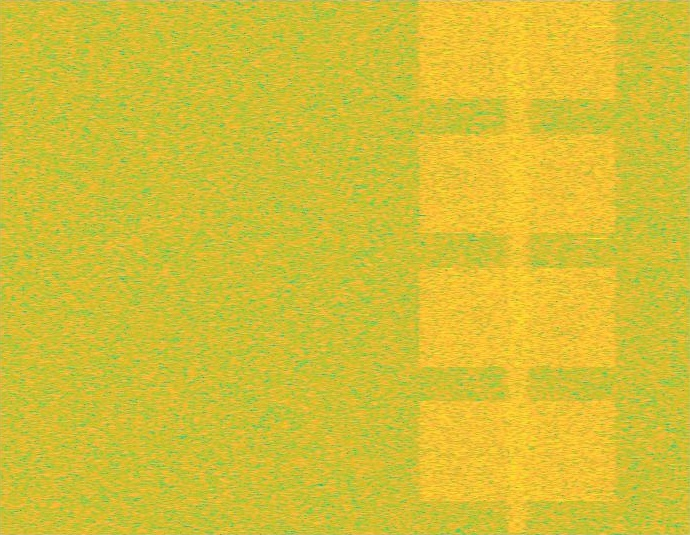5G: (414, 0, 621, 534)
DSSS: (504, 0, 531, 534)
Radar: (591, 0, 605, 534)
